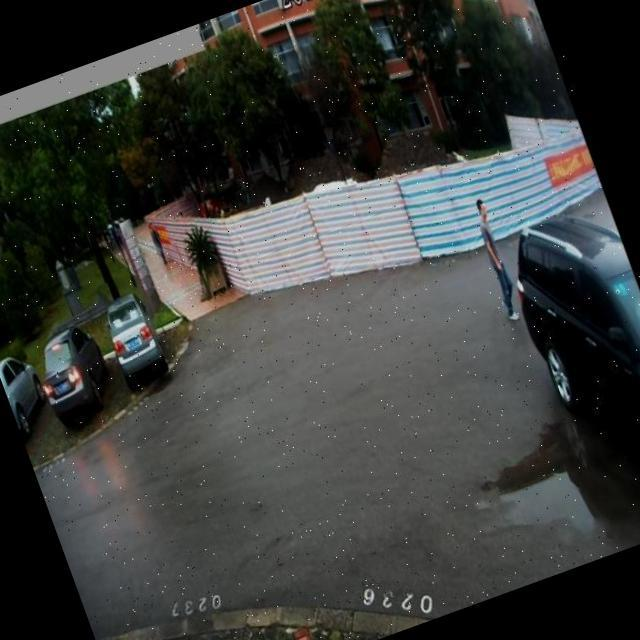person: (463, 195, 528, 324)
